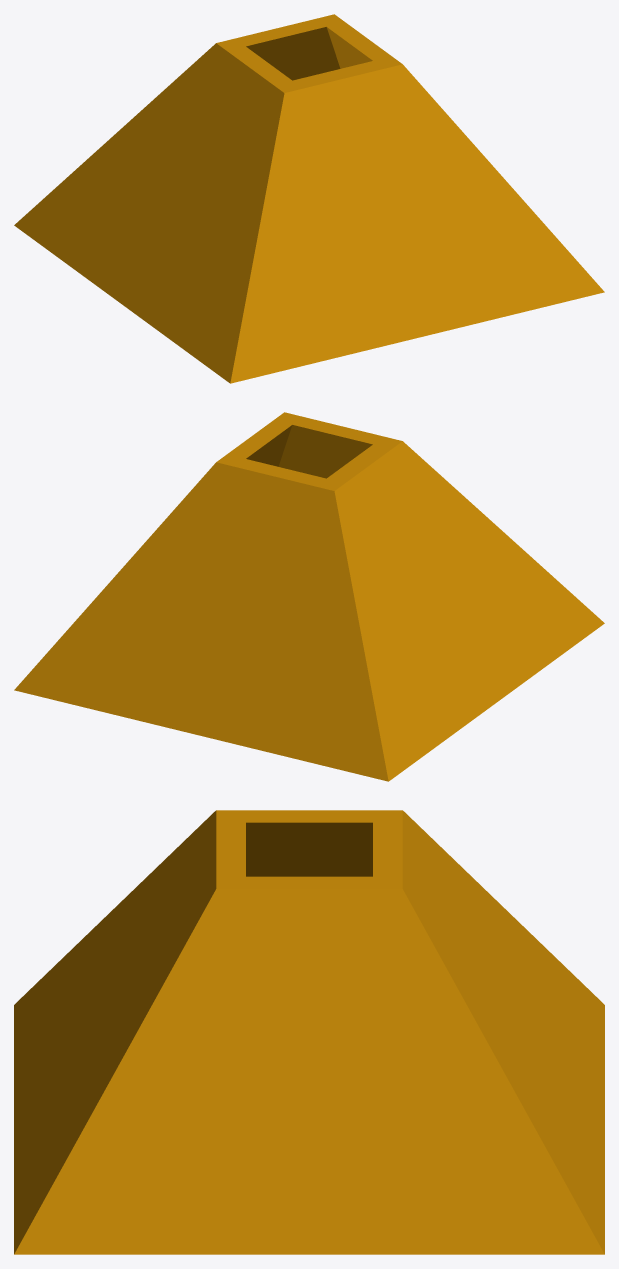
Rendered from Pyramid_hole_glb.gltf.
3 views of the same model, one above another, from view 1: azimuth 30°, elevation 25°; view 2: azimuth 150°, elevation 25°; view 3: azimuth 270°, elevation 25° (orthographic). The views are drawn at different scales.
Parts seen in each view (by area): view 1: Pyramid_hole_glb; view 2: Pyramid_hole_glb; view 3: Pyramid_hole_glb.
Boxes of the visible parts, left/top/right/bottom form: Pyramid_hole_glb: left=14, top=14, right=604, bottom=383; Pyramid_hole_glb: left=14, top=412, right=604, bottom=781; Pyramid_hole_glb: left=14, top=810, right=604, bottom=1254.
Size of what is drawn, in the model's own units: 30.48 by 15.95 by 30.48.
1 material, 1 textured.
